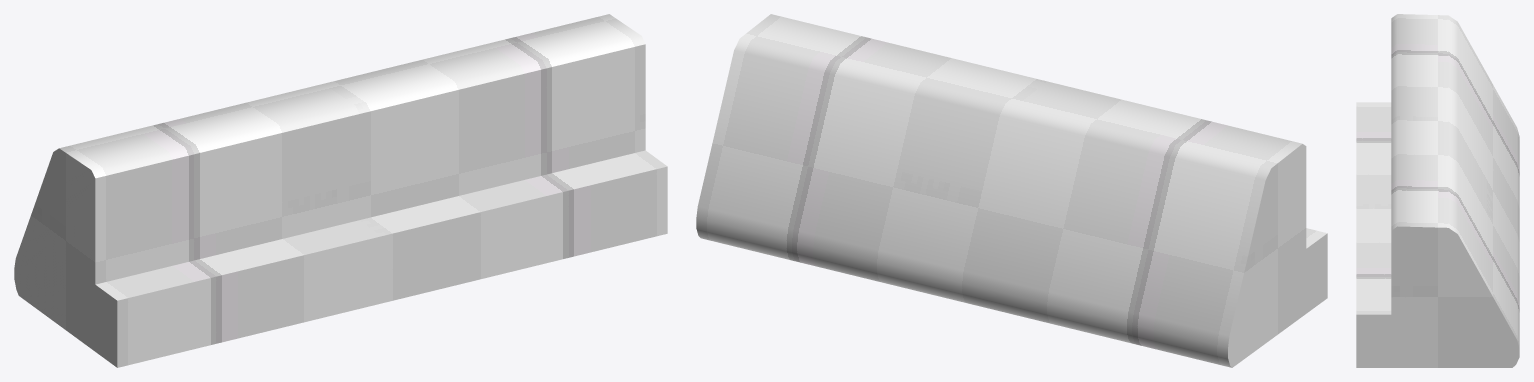
File: CitWards_Bal5m_A.FBX
The picture shows the model from 3 angles, left to right: view 1: azimuth 30°, elevation 25°; view 2: azimuth 150°, elevation 25°; view 3: azimuth 270°, elevation 25°; orthographic projection. The views are drawn at different scales.
Visible parts, largest first — view 1: CitWards_Bal5m_A; view 2: CitWards_Bal5m_A; view 3: CitWards_Bal5m_A.
Part boxes in pixels (x1,y1,x2,y2): CitWards_Bal5m_A: [14, 14, 667, 367]; CitWards_Bal5m_A: [696, 14, 1327, 367]; CitWards_Bal5m_A: [1356, 14, 1519, 367].
Bounding box in the file's own units: 5 × 1.55 × 1.62.
